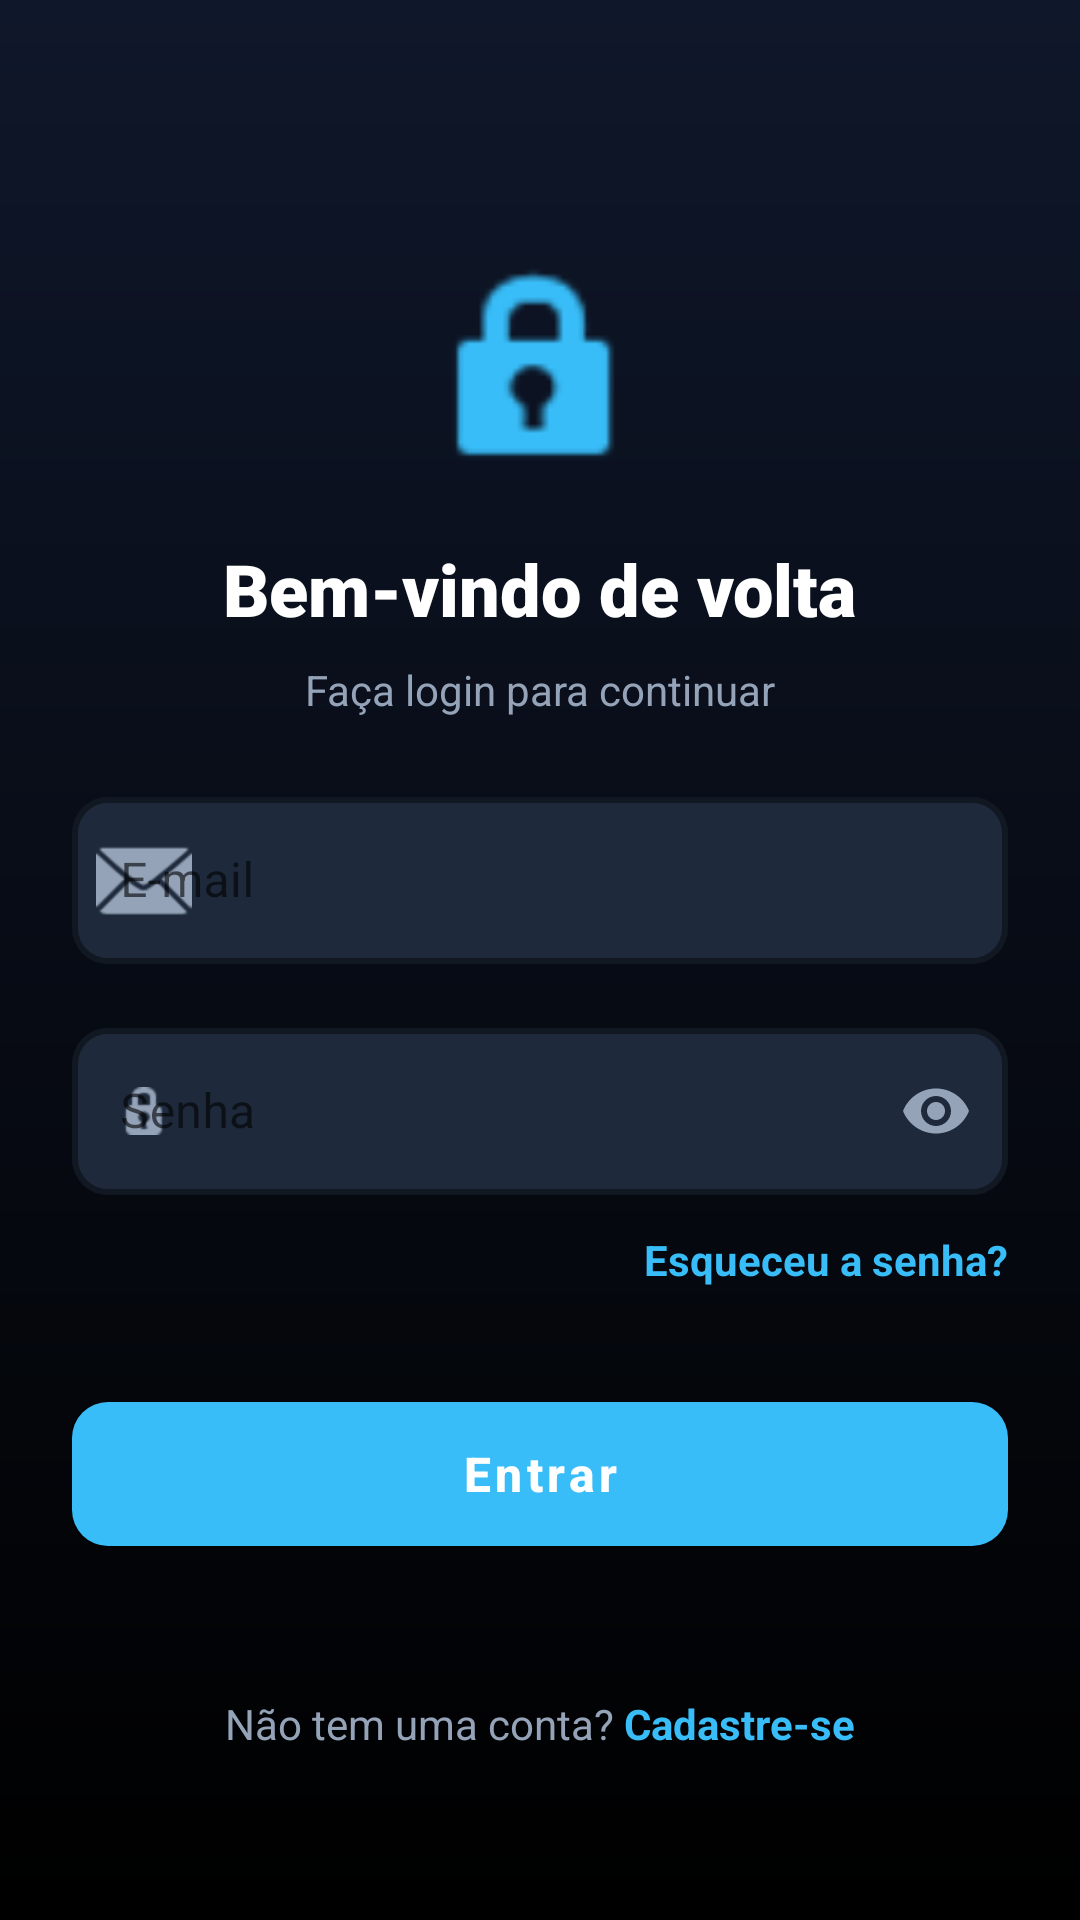

Screen size 1080w x 1920h. Icon name, then its center in pixels as (x,y):
lock idle: (534,364)
